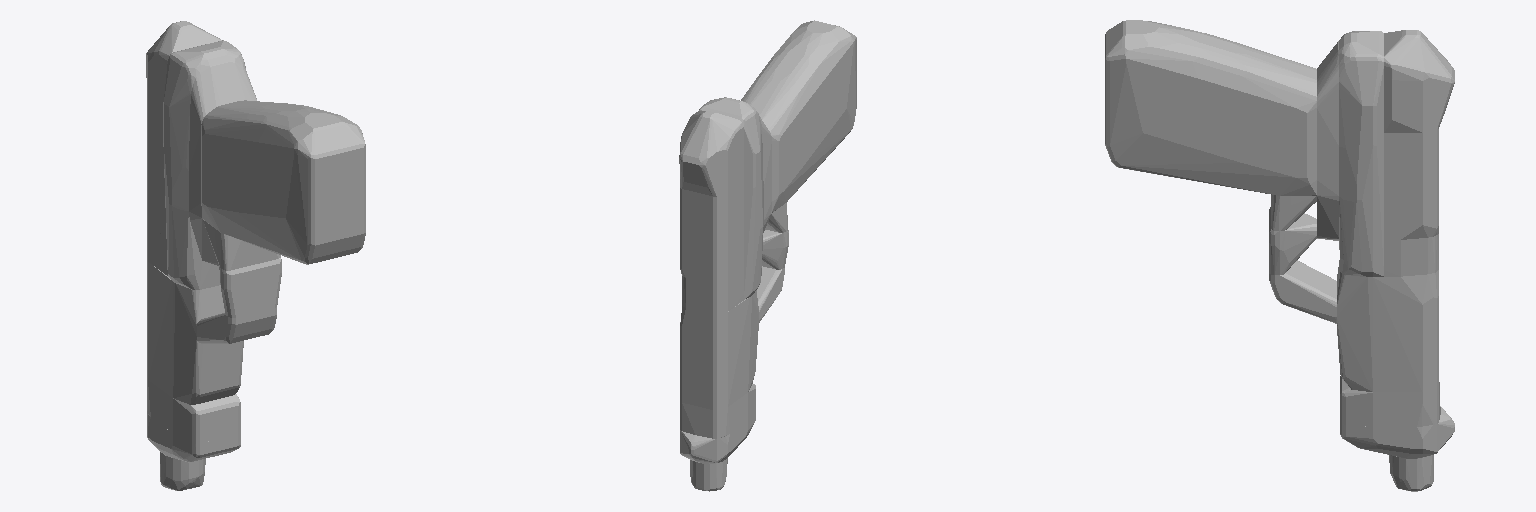
URDF robot description (root):
<?xml version="1.0"?>
<robot name="root">
  <link name="base_link">
    <visual>
      <origin xyz="0 0 0" rpy="0 0 0" />
      <geometry>
        <mesh filename="../meshes/unidex_core_pistol-efb488715a03085b9f433921788191f3_008.obj" scale="1.0000E+00 1.0000E+00 1.0000E+00" />
      </geometry>
      <material name="">
        <color rgba="7.50E-01 7.50E-01 7.50E-01 1" />
      </material>
    </visual>
    <collision>
      <origin xyz="0 0 0" rpy="0 0 0" />
      <geometry>
        <mesh filename="../meshes/unidex_core_pistol-efb488715a03085b9f433921788191f3_008.obj" scale="1.0000E+00 1.0000E+00 1.0000E+00" />
      </geometry>
    </collision>
  </link>
</robot>

--- What the picture shows (computed from the rendered views, not written in the file) ---
The picture shows the robot from 3 angles, left to right: view 1: azimuth 30°, elevation 25°; view 2: azimuth 150°, elevation 25°; view 3: azimuth 270°, elevation 25°; orthographic projection.
Robot: root — 1 links, 0 joints (none); root link base_link; default pose: every joint at zero.
Links seen in each view (by area): view 1: base_link; view 2: base_link; view 3: base_link.
Boxes of the visible links, x1,y1,x2,y2 form: base_link: (146,21,365,490); base_link: (679,20,856,491); base_link: (1105,20,1454,491).
Size in the robot's own frame: 0.0231 by 0.0925 by 0.1329 metres.
1 mesh visuals loaded from 1 distinct referenced files (1 OBJ).
